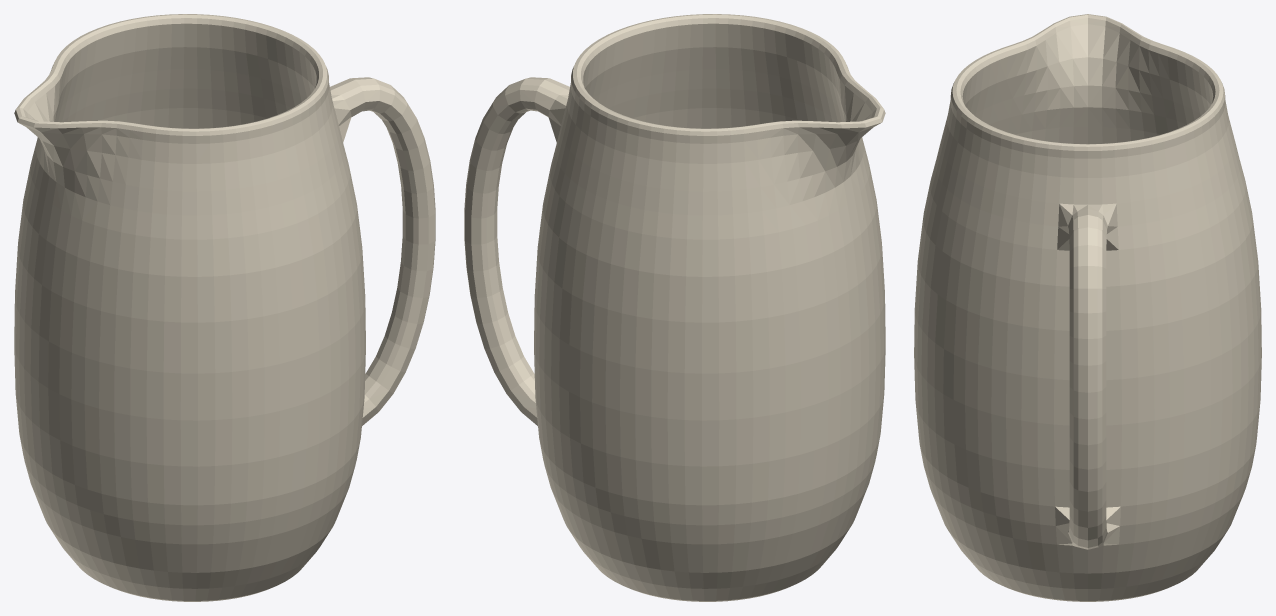
3 views of the same model, side by side, from view 1: azimuth 30°, elevation 25°; view 2: azimuth 150°, elevation 25°; view 3: azimuth 270°, elevation 25° (orthographic). The views are drawn at different scales.
Parts seen in each view (by area): view 1: Open_pitcher_integral_shell_and_loop_handle; view 2: Open_pitcher_integral_shell_and_loop_handle; view 3: Open_pitcher_integral_shell_and_loop_handle.
Part boxes in pixels (x1,y1,x2,y2): Open_pitcher_integral_shell_and_loop_handle: [14, 14, 435, 601]; Open_pitcher_integral_shell_and_loop_handle: [464, 14, 885, 601]; Open_pitcher_integral_shell_and_loop_handle: [914, 14, 1261, 601].
Size of the model in its own units: 0.14 by 0.155 by 0.105.
